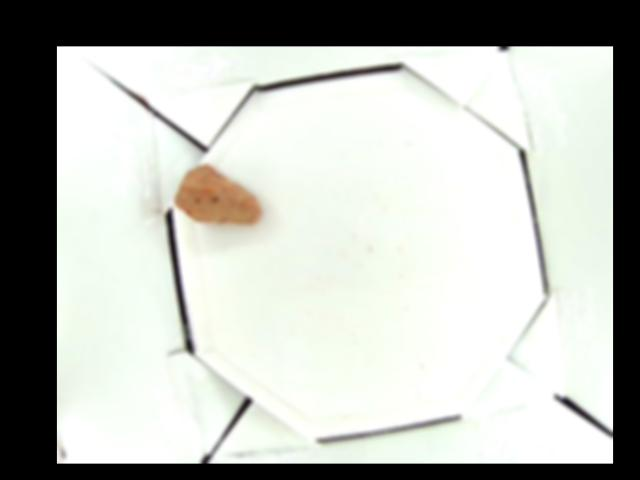Brisk: (173, 164, 261, 224)
